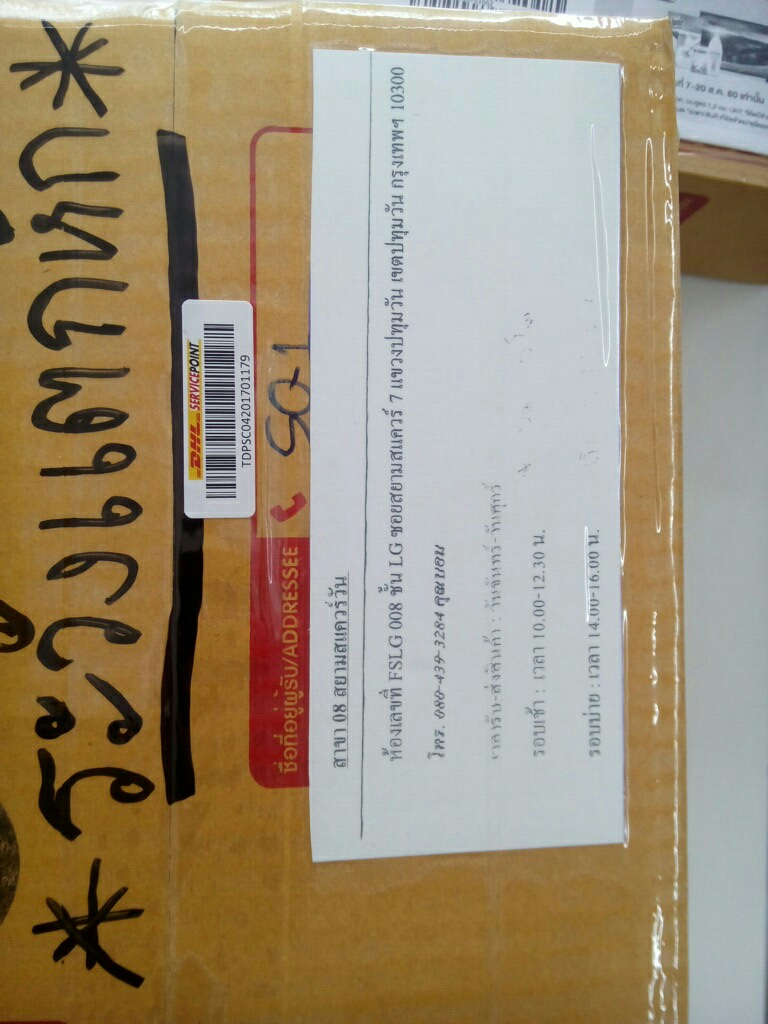txt: (375, 63, 605, 786)
